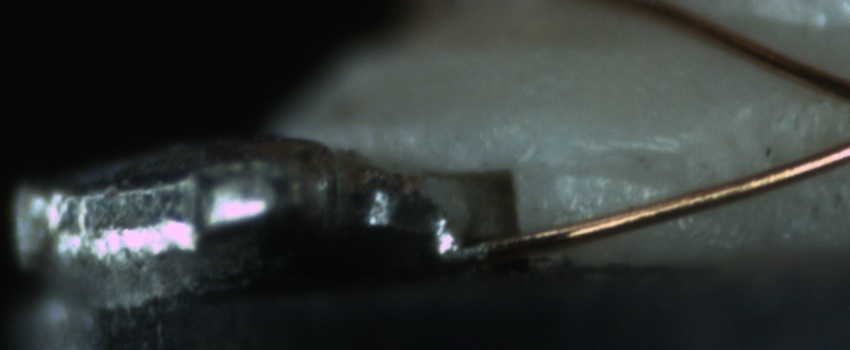DL: (539, 134, 689, 204)
